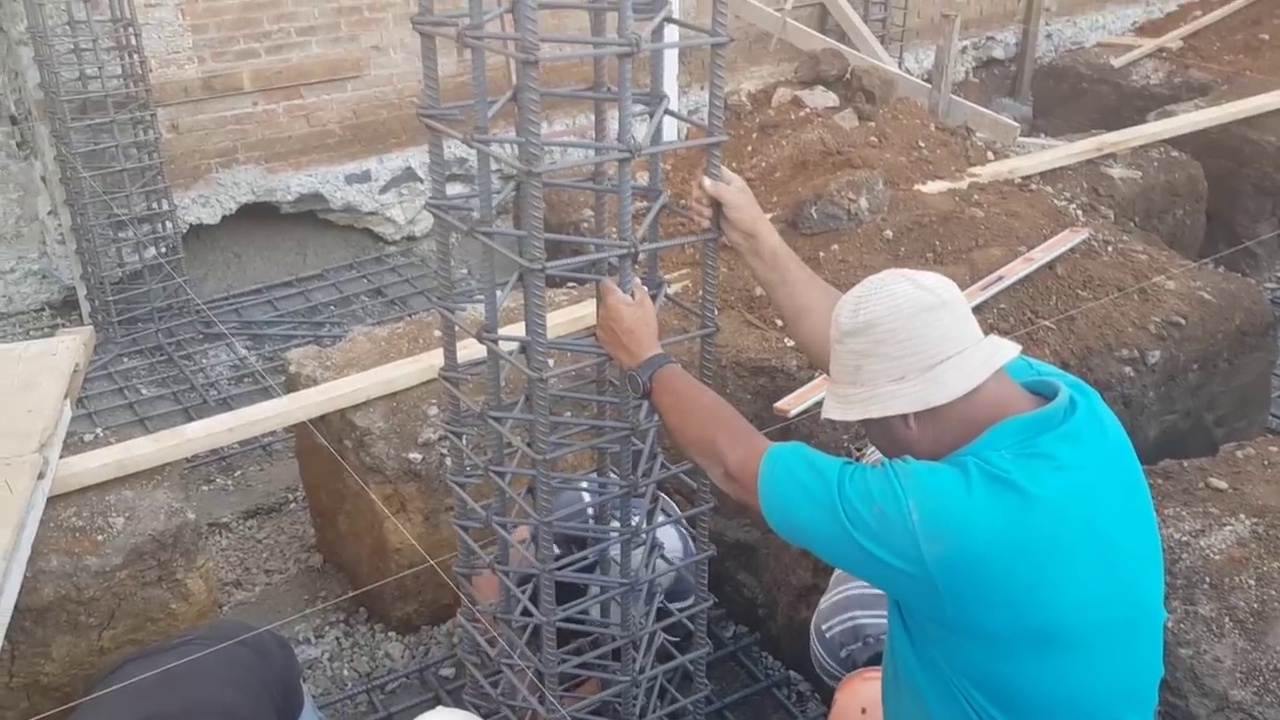helmet: (823, 669, 883, 718)
helmet-off: (807, 271, 1055, 459), (597, 512, 690, 624)
helmet-on: (823, 653, 890, 719)
person: (596, 164, 1190, 720), (446, 470, 698, 711), (69, 615, 304, 719), (796, 555, 912, 718)
